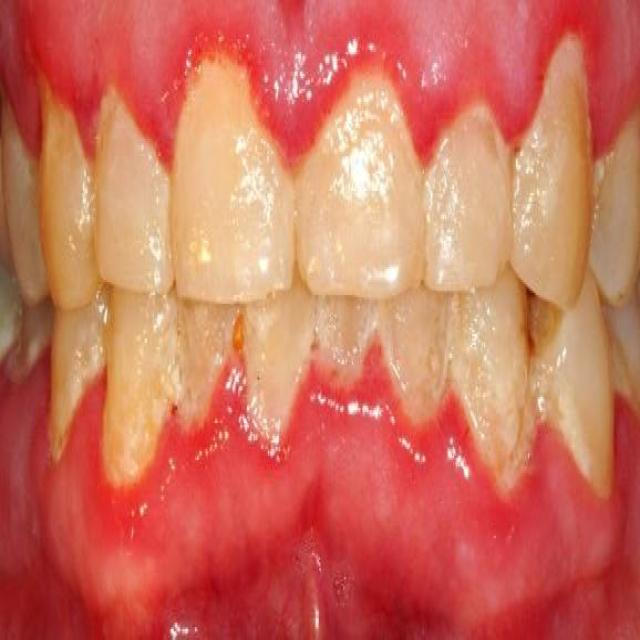Gingivitis: (169, 468, 451, 640), (257, 20, 331, 164)
